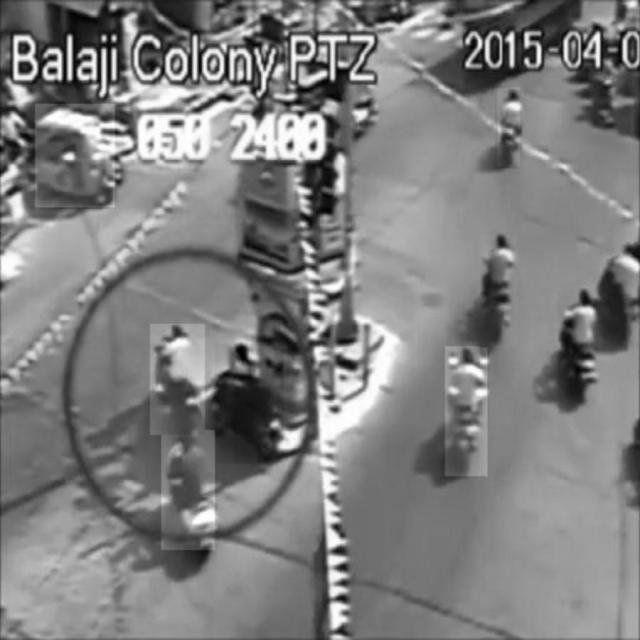vehicle: (36, 104, 116, 207), (215, 344, 283, 464), (162, 431, 216, 551), (151, 324, 206, 435), (446, 346, 488, 476), (558, 289, 598, 403), (479, 235, 517, 347), (498, 88, 520, 166)
